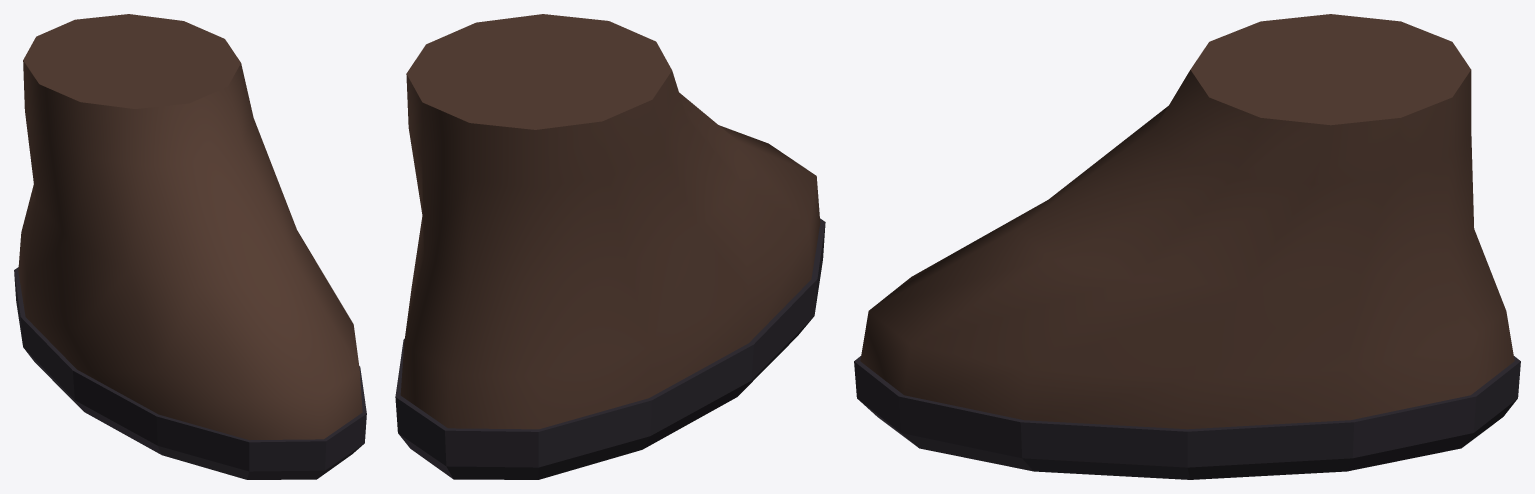
The model's file is pie_izq.obj.
The picture shows the model from 3 angles, left to right: view 1: azimuth 30°, elevation 25°; view 2: azimuth 150°, elevation 25°; view 3: azimuth 270°, elevation 25°; orthographic projection. The views are drawn at different scales.
Parts seen in each view (by area): view 1: pie_izq; view 2: pie_izq; view 3: pie_izq.
Part boxes in pixels (x1=…): pie_izq: x1=14, y1=14, x2=366, y2=479; pie_izq: x1=395, y1=14, x2=825, y2=479; pie_izq: x1=854, y1=14, x2=1520, y2=479.
Size of the model in its own units: 0.114 by 0.131 by 0.228.
